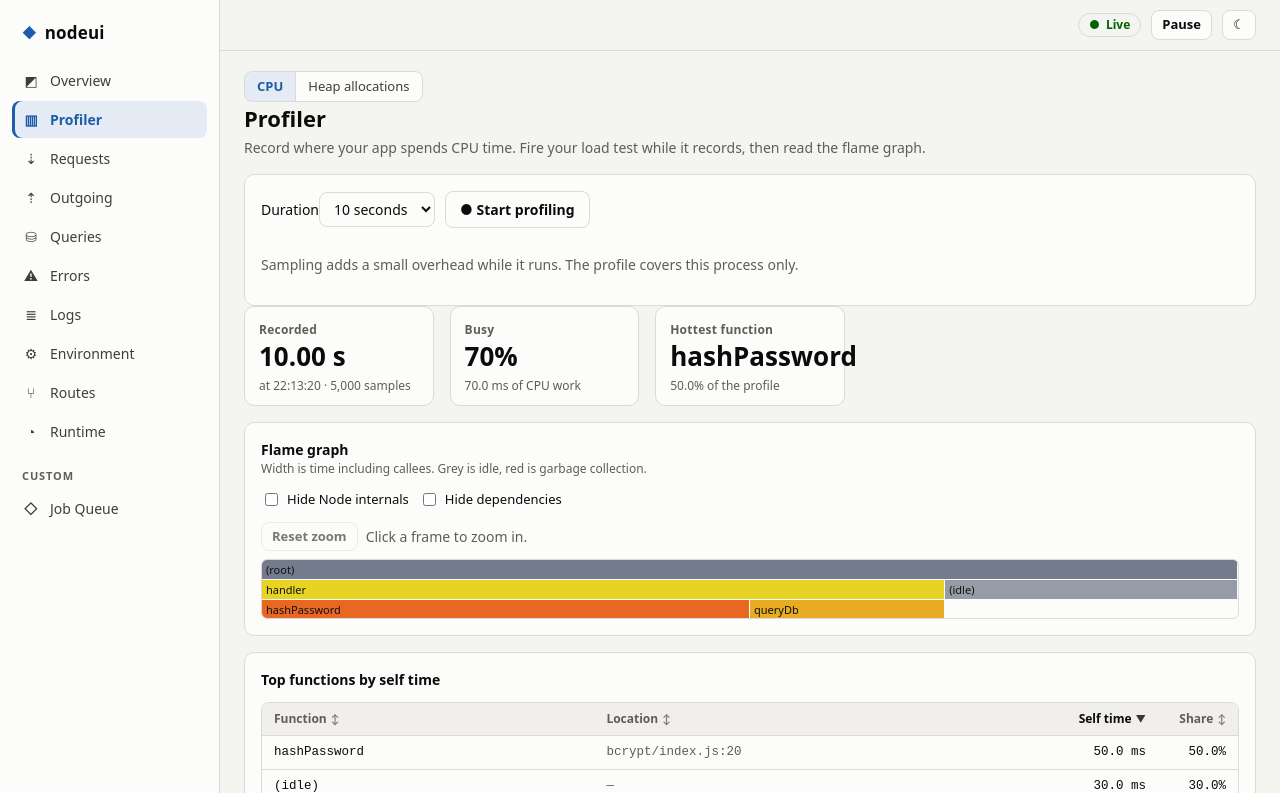
Test: Profiler view › zooms into a frame and back out
Expected: the picture named "Flame graph" is shown, [261,559,1239,619]
Click the button "handler".
click(286, 590)  # box [262,580,945,599]
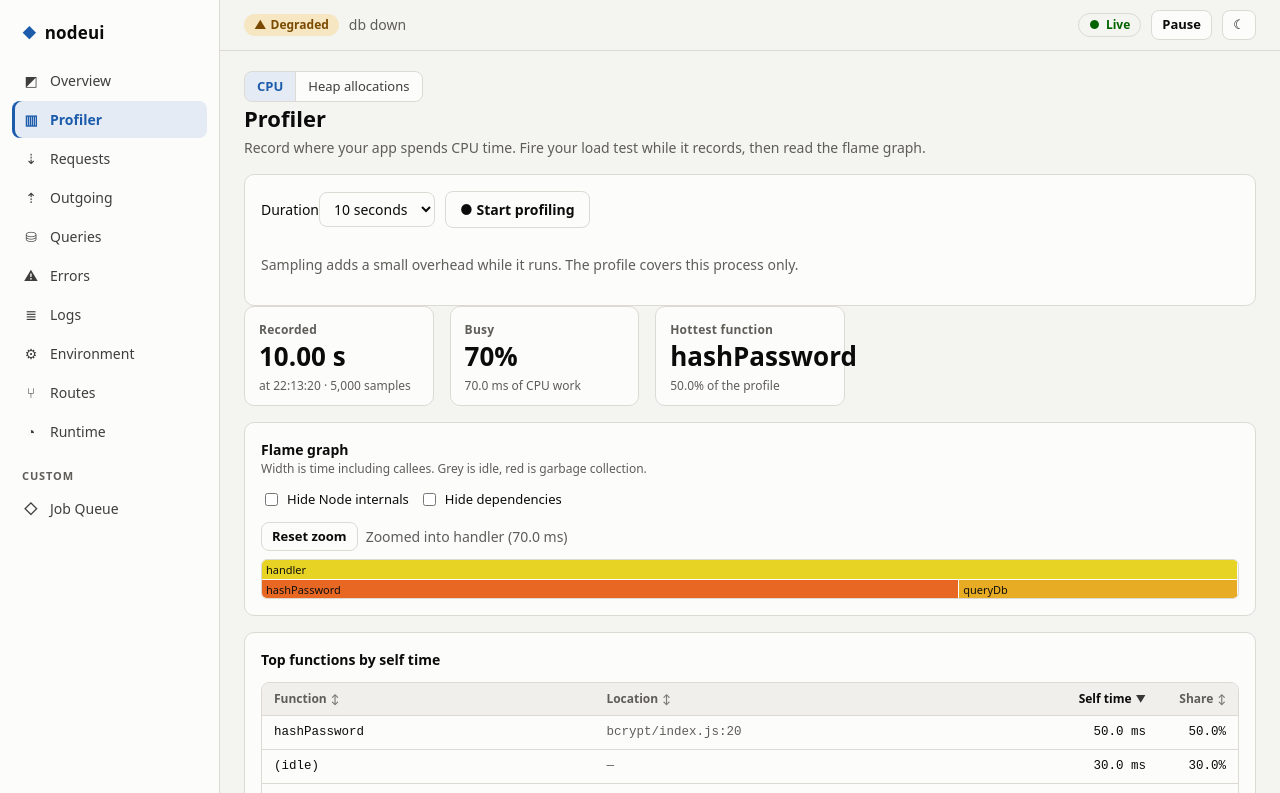
Expected: the text "Zoomed into handler (70.0 ms)" is shown, [366,526,568,547]
Click the button "Reset zoom".
click(309, 536)  # box [261,522,358,551]
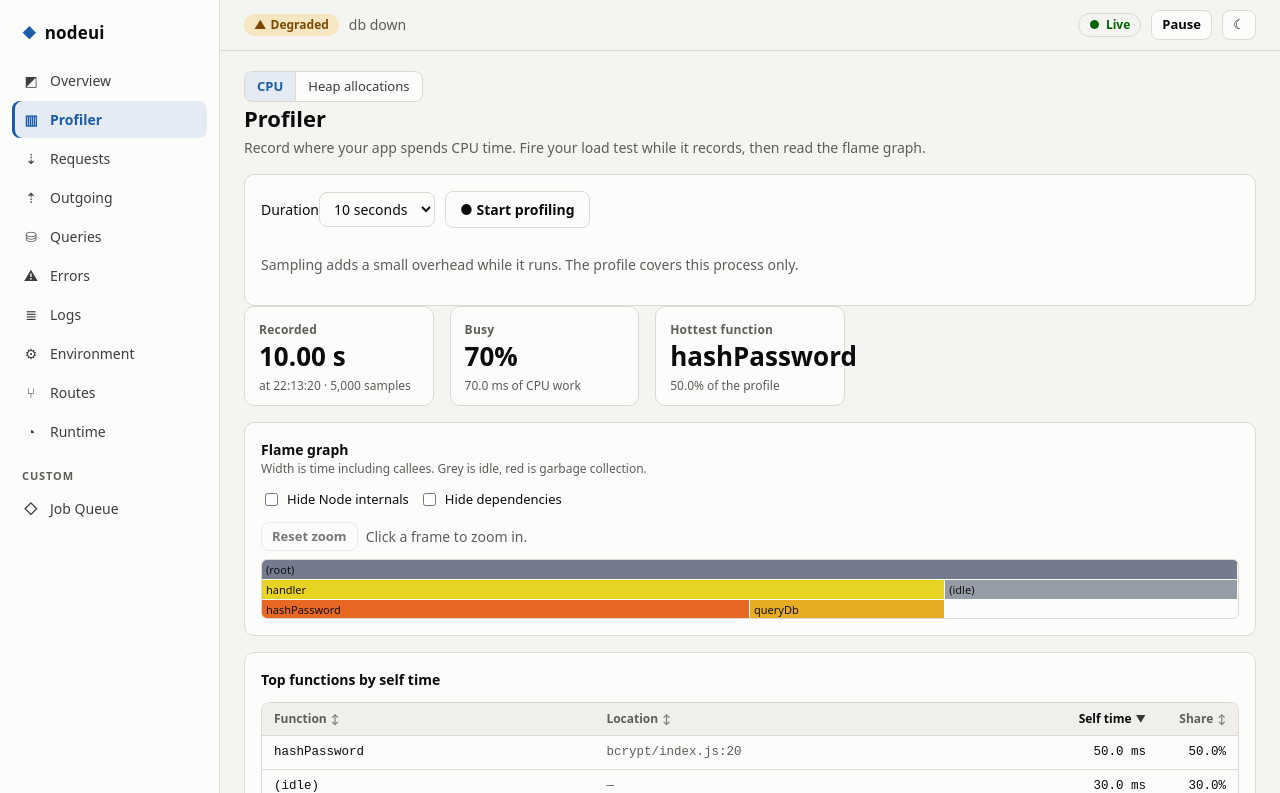
Expected: the text "Zoomed into" is gone
